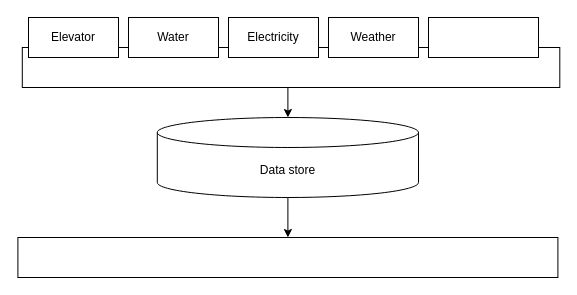
Some shapes in this 577 by 295 pixel diagram are drawn without their labels. The box of each missing label's shape, as (x1, y1, x2, y2) in pixels:
Plugins: (21, 46, 560, 88)
Public / city data: (428, 16, 538, 58)
Users : Tenants + Staff: (17, 236, 558, 278)
